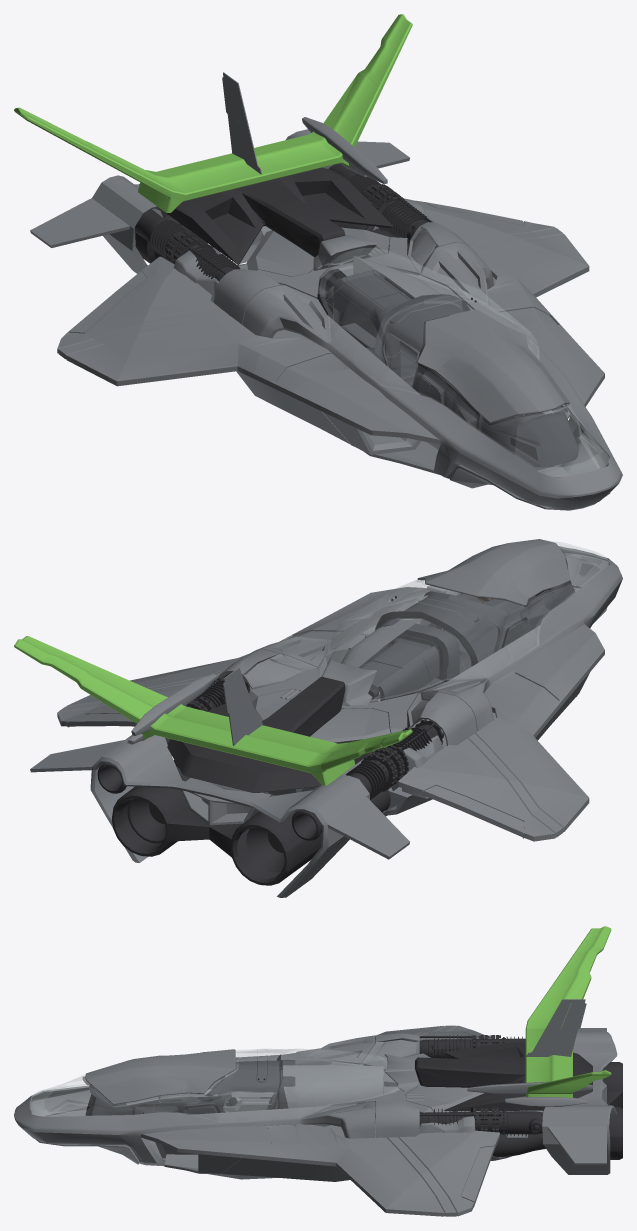
The model's file is Venom.30ac352e56.glb.
3 views of the same model, one above another, from view 1: azimuth 30°, elevation 25°; view 2: azimuth 150°, elevation 25°; view 3: azimuth 270°, elevation 25° (orthographic). The views are drawn at different scales.
Parts seen in each view (by area): view 1: pCube55, polySurface2, pCylinder13, pCube49, pCube43; view 2: pCube55, pCylinder13, polySurface2, pCube49, pCube43; view 3: pCube55, polySurface2, pCylinder13, pCube43, pCube49.
Part boxes in pixels (x1,y1,x2,y2): pCube55: (30,72,622,510); polySurface2: (320,248,609,476); pCylinder13: (135,163,476,302); pCube49: (317,268,578,470); pCube43: (14,14,412,212); pCube55: (30,539,622,897); pCylinder13: (97,596,444,885); polySurface2: (320,541,609,701); pCube49: (263,558,575,796); pCube43: (14,636,412,785); pCube55: (14,999,617,1216); polySurface2: (30,1048,398,1122); pCylinder13: (258,1035,622,1159); pCube43: (525,926,611,1098); pCube49: (85,1054,417,1115).
Size of the model in its own units: 7.03 by 2.67 by 9.67.
